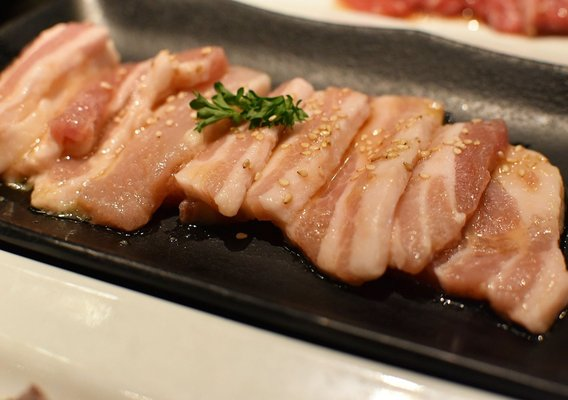curry: (187, 81, 310, 131)
